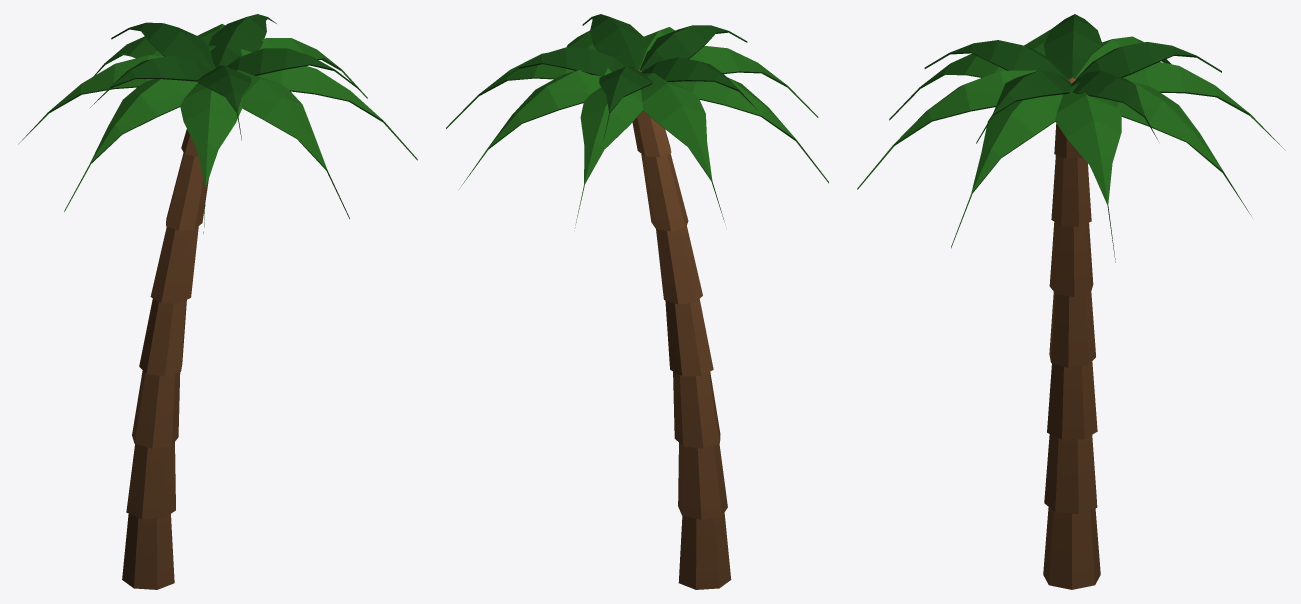
Rendered from palm_src_v2.glb.
The picture shows the model from 3 angles, left to right: view 1: azimuth 30°, elevation 25°; view 2: azimuth 150°, elevation 25°; view 3: azimuth 270°, elevation 25°; orthographic projection. The views are drawn at different scales.
Visible parts, largest first — view 1: bench_palm; view 2: bench_palm; view 3: bench_palm.
Part boxes in pixels (x1,y1,x2,y2): bench_palm: [18, 14, 417, 589]; bench_palm: [446, 14, 828, 589]; bench_palm: [857, 14, 1285, 589].
Bounding box in the file's own units: 4.12 × 5.94 × 4.12.
1 material, 1 textured.
